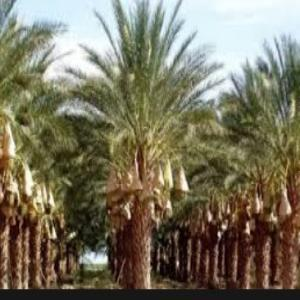palm tree: (56, 0, 226, 288), (0, 3, 76, 290), (218, 32, 299, 288)
